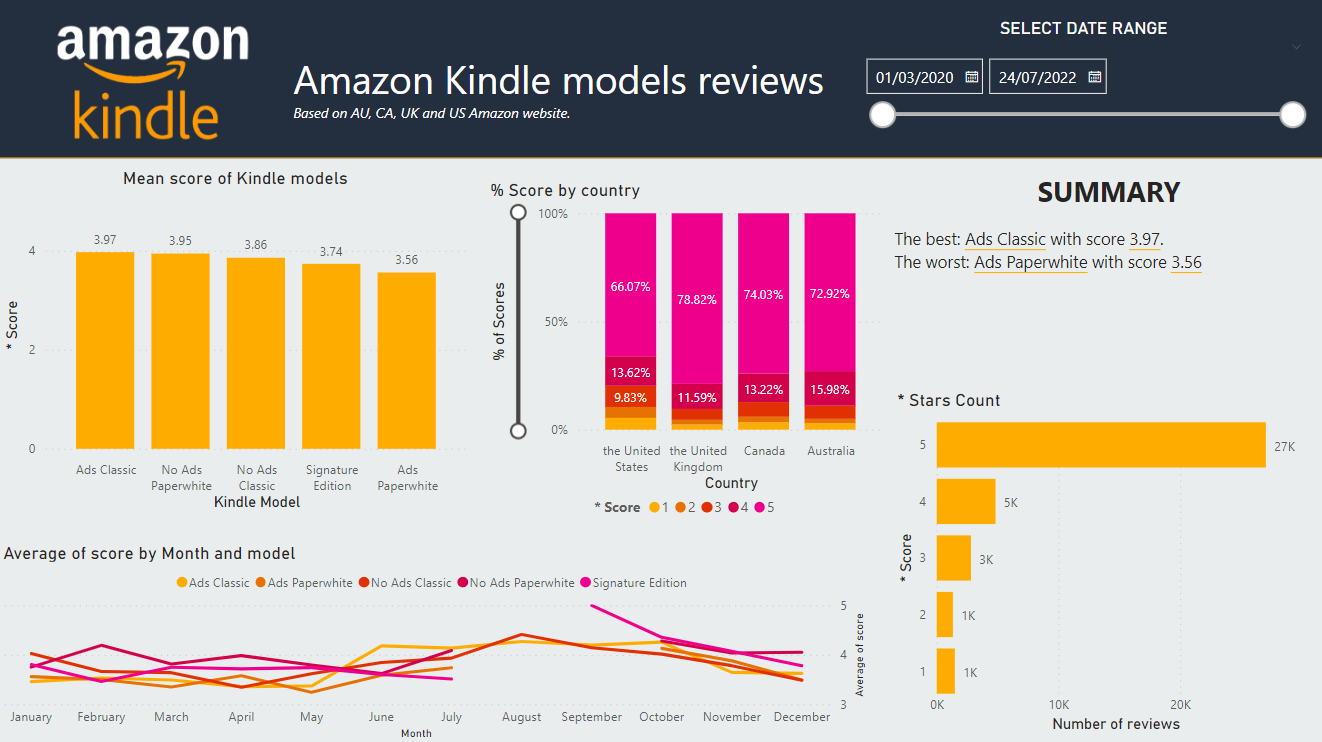

This screenshot's page, from the dashboard's own definition file:
{"tool":"powerbi","page":{"name":"Page 1","canvas":[1280,720],"ordinal":0},"visuals":[{"type":"shape","box":[0,0,1280,156.4],"z":0},{"type":"clusteredBarChart","title":"* Stars Count","fields":{"Category":["kindle reviews.score"],"Y":["Sum(kindle reviews.score)"]},"box":[860.1,378.4,402.5,335],"z":1000},{"type":"textbox","box":[279.1,48.6,780.1,85.6],"z":2000},{"type":"slicer","title":"SELECT DATE RANGE","fields":{"Values":["kindle reviews.date"]},"box":[822,20,444,127],"z":3000},{"type":"image","box":[0,0,299.2,156.4],"z":4000},{"type":"clusteredColumnChart","title":"Mean score of Kindle models","fields":{"Category":["kindle reviews.model"],"Y":["Avg(kindle reviews.score)"]},"box":[0,164.1,456.6,335],"z":5000},{"type":"textbox","box":[856.9,164.4,423.1,177.9],"z":6000},{"type":"hundredPercentStackedColumnChart","title":"% Score by country","fields":{"Y":["Sum(kindle reviews.score)"],"Series":["kindle reviews.score"],"Category":["kindle reviews.country"]},"box":[468.3,176,388.5,334.7],"z":8000},{"type":"lineChart","fields":{"Y":["Avg(kindle reviews.score)"],"Category":["kindle reviews.date.Variation.Date Hierarchy.Year","kindle reviews.date.Variation.Date Hierarchy.Month"],"Series":["kindle reviews.model"]},"box":[0,525.1,838.6,195.2],"z":9000}]}

Visuals, with their boxes in screenshot pixels (x1, y1, x2, y2), scaled from the page's 1280x720 canvas onto the 1322x742 screenshot:
shape: pyautogui.locateOnScreen(0, 0, 1321, 161)
"* Stars Count" clusteredBarChart: pyautogui.locateOnScreen(888, 390, 1304, 735)
textbox: pyautogui.locateOnScreen(288, 50, 1094, 138)
"SELECT DATE RANGE" slicer: pyautogui.locateOnScreen(849, 21, 1308, 151)
image: pyautogui.locateOnScreen(0, 0, 309, 161)
"Mean score of Kindle models" clusteredColumnChart: pyautogui.locateOnScreen(0, 169, 472, 514)
textbox: pyautogui.locateOnScreen(885, 169, 1321, 353)
"% Score by country" hundredPercentStackedColumnChart: pyautogui.locateOnScreen(484, 181, 885, 526)
lineChart - Avg(kindle reviews.score) x kindle reviews.date.Variation.Date Hierarchy.Year: pyautogui.locateOnScreen(0, 541, 866, 741)
